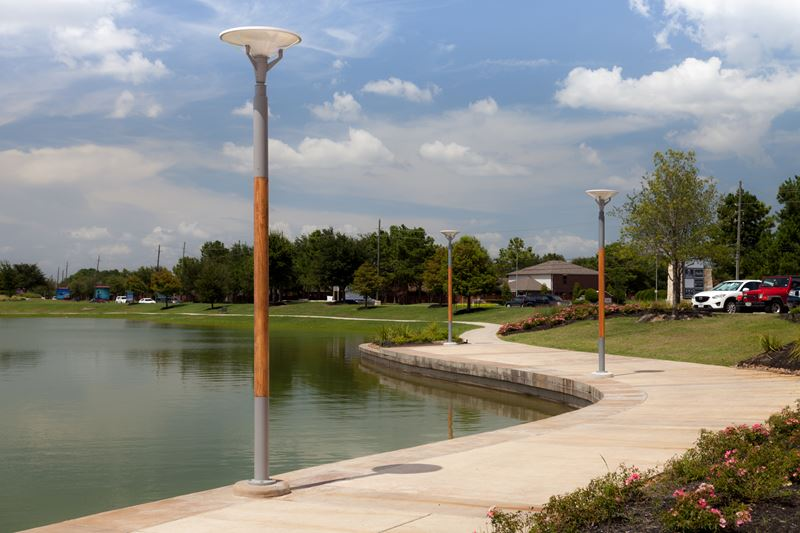light_pole: (242, 41, 278, 493), (592, 188, 611, 376), (440, 222, 458, 340)
